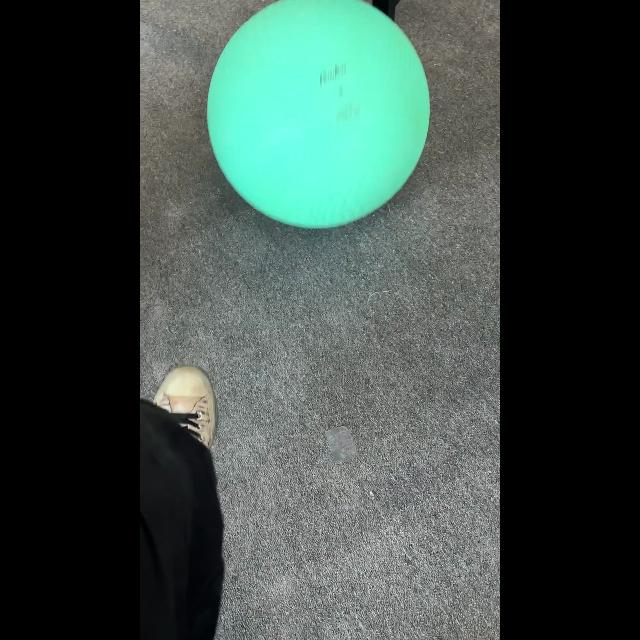ALGAE: (206, 1, 430, 230)
